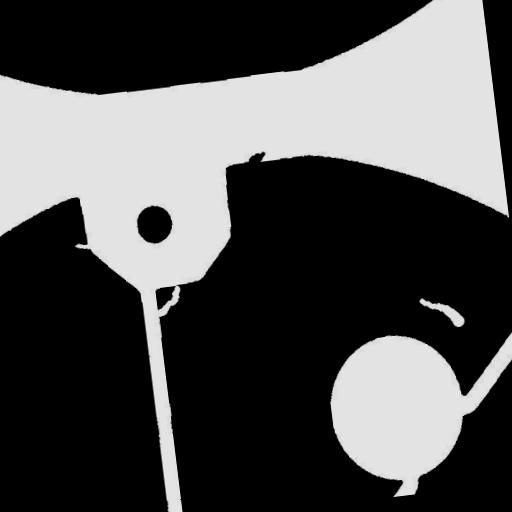mousebite: (66, 233, 103, 259)
open: (142, 277, 192, 326)
pin-hole: (410, 285, 473, 340)
spur: (240, 142, 274, 174)
